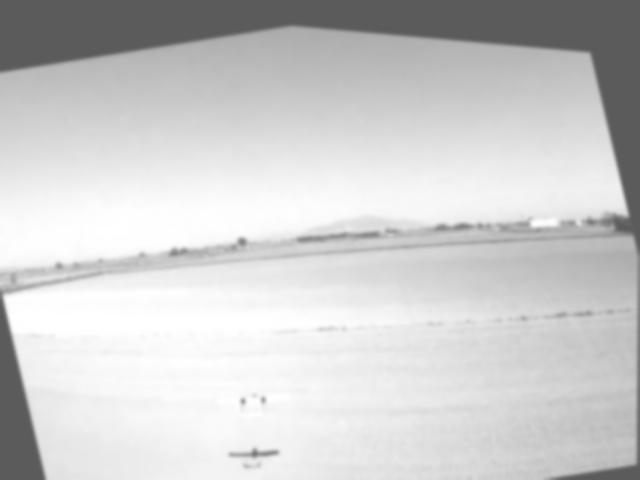hedef: (215, 370, 298, 427)
